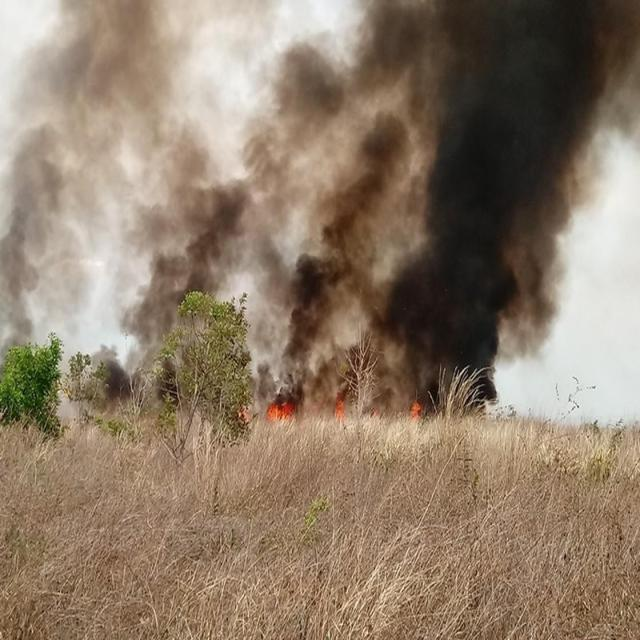Fire: (260, 399, 300, 420), (404, 399, 422, 418), (332, 398, 344, 418)
